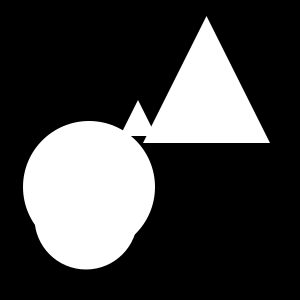rectangle: (23, 121, 155, 253), (35, 167, 138, 270)
triangle: (143, 16, 270, 143), (120, 100, 156, 136)
